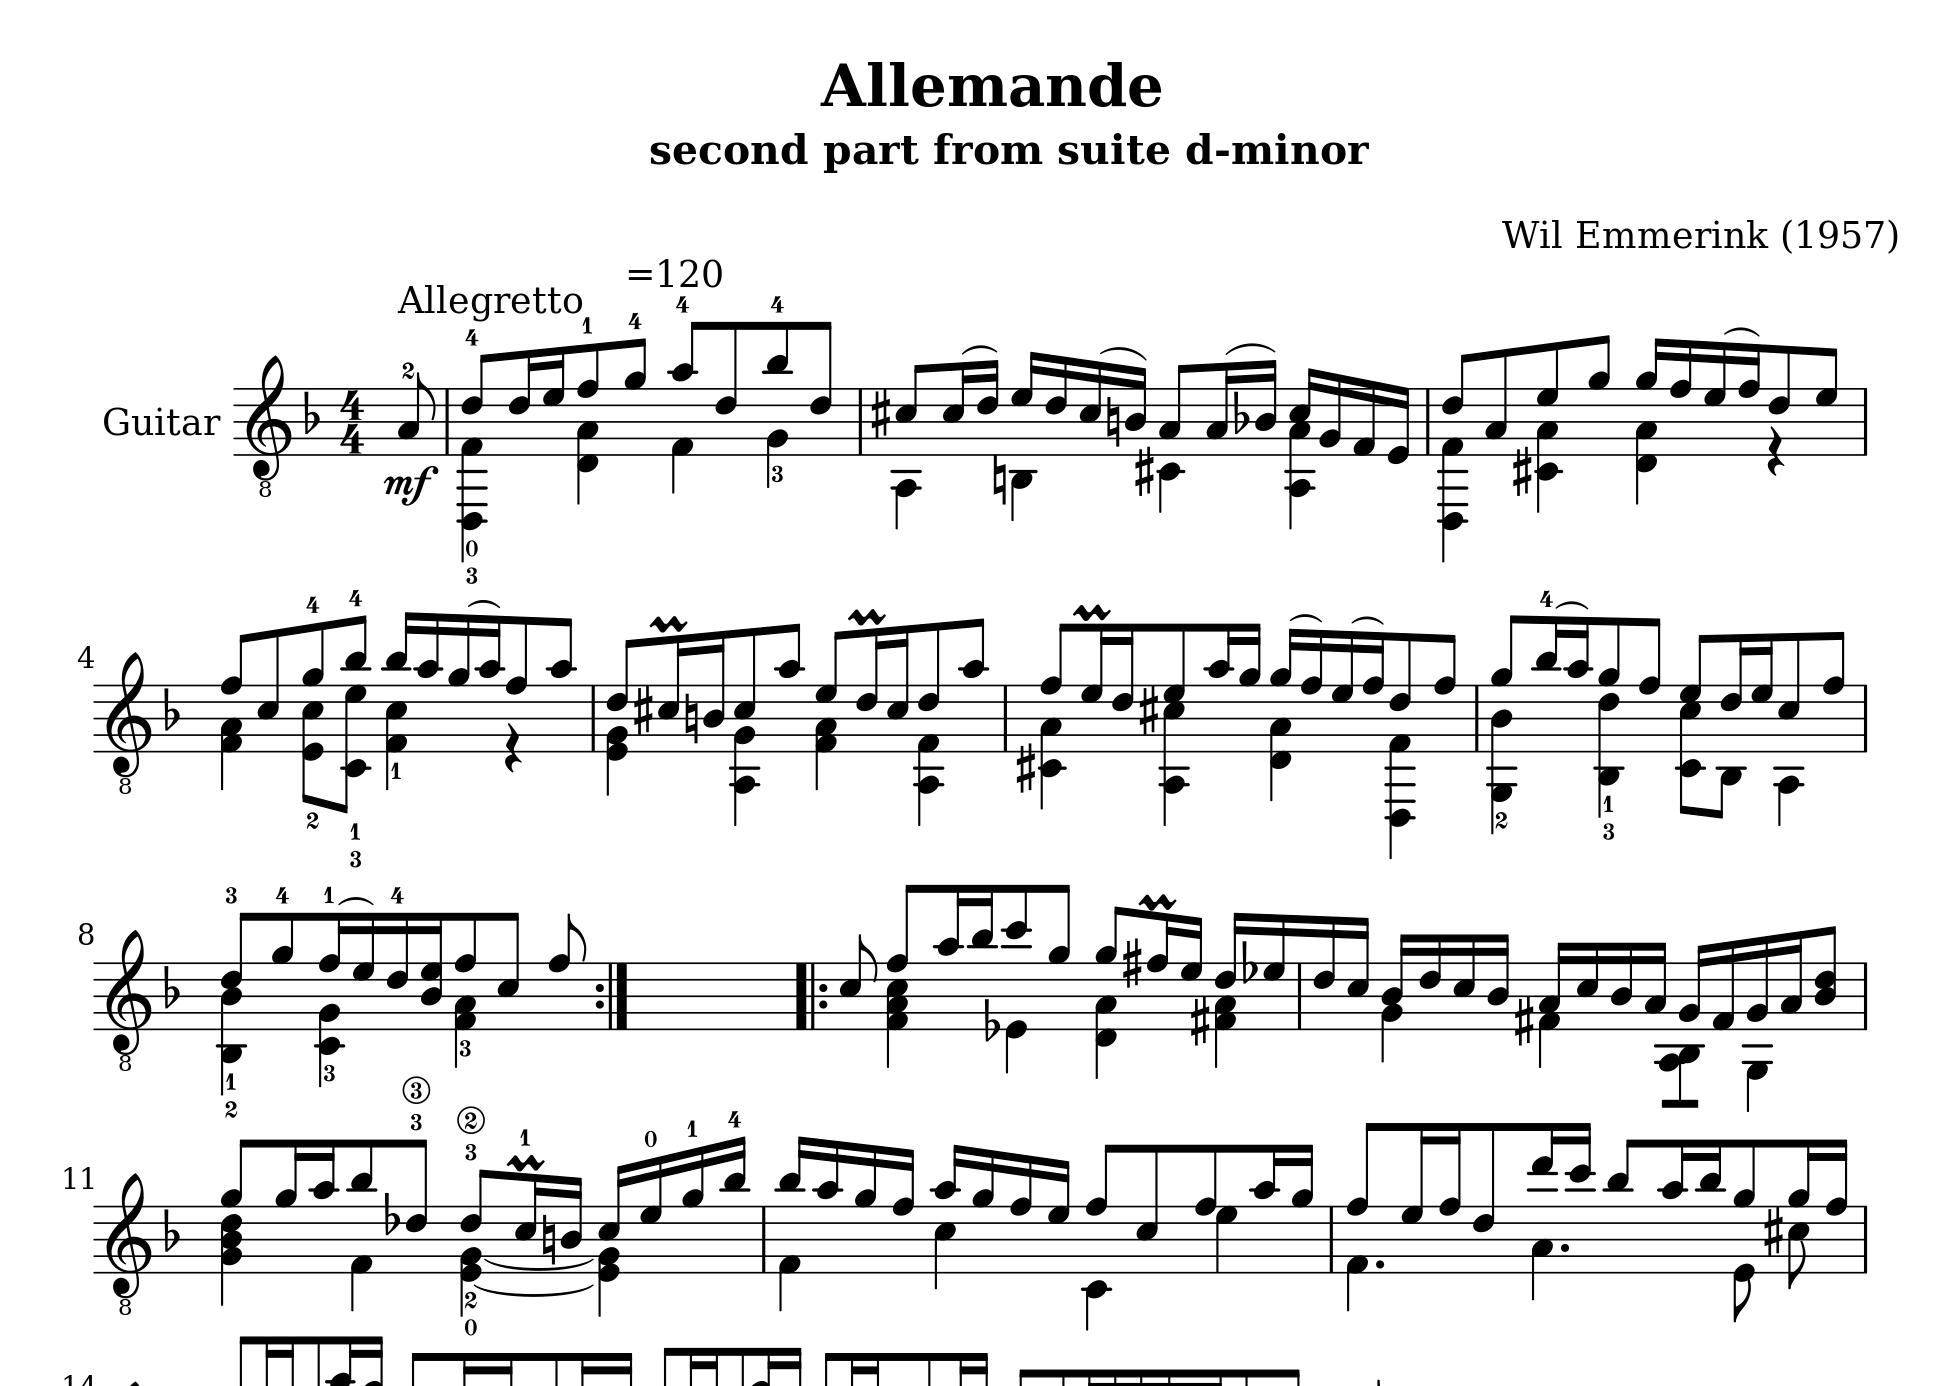0: (702, 256, 723, 288), (643, 1126, 657, 1147)
1: (79, 1162, 96, 1192), (658, 256, 673, 288), (61, 1162, 76, 1192), (348, 820, 361, 840), (322, 883, 334, 904), (685, 1117, 697, 1138)
16_0: (1386, 382, 1411, 465)
16_1: (1710, 937, 1735, 1032), (1350, 376, 1377, 457)
16_10: (934, 883, 964, 1032), (1659, 1137, 1690, 1273), (309, 1135, 337, 1276), (1251, 1143, 1281, 1273), (813, 1137, 841, 1273), (475, 613, 502, 753), (1206, 621, 1234, 753), (1564, 615, 1591, 751), (415, 610, 441, 751)
16_11: (1603, 1134, 1636, 1273), (1533, 612, 1563, 754), (969, 880, 996, 1032), (720, 1132, 748, 1275), (1696, 1137, 1723, 1272)
16_12: (1566, 1120, 1594, 1273), (1003, 880, 1029, 1038)
16_2: (1677, 940, 1708, 1030), (1317, 370, 1344, 457), (1746, 933, 1770, 1030)
16_3: (1779, 928, 1804, 1032), (1203, 361, 1230, 457), (1642, 940, 1668, 1030)
16_4: (700, 630, 727, 754), (1254, 357, 1279, 457), (1486, 930, 1512, 1030), (559, 1174, 583, 1273), (1609, 940, 1635, 1030), (1123, 364, 1147, 453)
16_5: (885, 622, 910, 756), (655, 634, 682, 753), (1345, 913, 1371, 1030), (513, 1171, 541, 1275), (940, 358, 970, 456), (1452, 931, 1477, 1030), (1078, 358, 1102, 456), (1575, 940, 1600, 1030)
16_6: (1471, 1116, 1497, 1282), (853, 625, 882, 756), (1719, 633, 1749, 754), (1110, 622, 1137, 756), (505, 348, 535, 457), (1312, 913, 1339, 1030), (385, 909, 411, 1030), (1044, 352, 1071, 456), (976, 357, 1002, 456), (1419, 931, 1443, 1030)
16_7: (1401, 1120, 1428, 1276), (1080, 621, 1108, 754), (1330, 628, 1356, 753), (351, 907, 376, 1030), (1011, 349, 1039, 456), (639, 1152, 663, 1276), (1047, 1155, 1071, 1276), (1750, 633, 1774, 753), (1263, 910, 1287, 1030), (1704, 339, 1728, 457), (1179, 913, 1203, 1030), (541, 343, 565, 457)
16_8: (1440, 1122, 1464, 1273), (889, 1144, 916, 1273), (1146, 910, 1174, 1030), (1008, 1150, 1035, 1275), (1824, 1138, 1848, 1276), (1299, 627, 1324, 753), (1669, 337, 1695, 456), (1362, 630, 1386, 754), (1737, 340, 1762, 456)
16_9: (274, 1137, 301, 1276), (445, 609, 471, 754), (1290, 1140, 1315, 1275), (679, 1143, 705, 1276), (970, 1144, 996, 1273), (1237, 619, 1261, 754), (853, 1141, 877, 1276)
2: (676, 256, 699, 288)
3: (408, 1111, 424, 1131), (223, 883, 238, 904), (463, 565, 478, 585), (1602, 820, 1617, 840), (463, 1141, 478, 1161), (348, 847, 361, 868)
4: (337, 420, 367, 454), (337, 385, 366, 420), (274, 883, 291, 904), (388, 883, 405, 904), (675, 292, 690, 315), (1537, 589, 1554, 607), (348, 586, 363, 606), (304, 592, 319, 612)
4_0: (1003, 958, 1027, 1077)
4_1: (348, 1203, 373, 1311), (777, 1201, 801, 1312), (670, 387, 694, 493)
4_3: (1530, 1201, 1554, 1300)
4_5: (933, 1201, 955, 1291)
4_7: (1216, 1204, 1239, 1273)
8: (76, 919, 94, 946)
8_10: (958, 616, 988, 754), (547, 613, 574, 753), (774, 621, 802, 753)
8_3: (396, 370, 435, 457), (1156, 361, 1189, 456), (1482, 346, 1509, 459)
8_5: (838, 933, 877, 1032), (1135, 1141, 1161, 1276), (256, 625, 280, 754), (894, 361, 925, 457), (1777, 631, 1801, 756), (496, 909, 520, 1030)
8_6: (712, 319, 739, 457), (808, 318, 834, 460), (405, 1135, 430, 1276)
8_7: (1815, 345, 1839, 457)
8_8: (547, 912, 583, 1032), (1636, 616, 1663, 754), (1194, 1141, 1218, 1275), (1432, 631, 1458, 754), (1821, 631, 1846, 754)
8_9: (1047, 883, 1072, 1033), (268, 909, 295, 1030), (1587, 333, 1612, 457), (622, 336, 648, 454)
Flat: (160, 961, 181, 1009), (160, 685, 181, 732), (160, 1206, 181, 1252), (301, 388, 321, 436), (1233, 388, 1251, 435), (1242, 937, 1258, 985), (382, 1189, 399, 1237), (982, 997, 999, 1044)
Guit: (100, 400, 183, 436)
LeftRepeatSign: (792, 961, 829, 1029)
Lower_Gclef: (103, 649, 151, 796), (244, 352, 292, 498), (103, 928, 151, 1072), (103, 1171, 151, 1315)
Natural: (682, 690, 700, 744), (991, 453, 1008, 508), (1105, 393, 1122, 448), (541, 1210, 556, 1266)
Rests4: (502, 721, 523, 775), (1767, 424, 1785, 478)
RightRepeatSign: (594, 961, 631, 1027)
Sharp: (868, 385, 891, 439), (1189, 994, 1212, 1048), (1132, 444, 1155, 496), (1510, 444, 1533, 496), (1014, 741, 1036, 793), (1513, 994, 1536, 1047), (1122, 934, 1143, 990), (1762, 1204, 1783, 1258), (633, 682, 654, 735), (1138, 684, 1159, 736)
ShortTrill: (1071, 600, 1113, 621), (847, 604, 888, 625), (648, 612, 688, 631), (507, 1152, 546, 1171), (1140, 889, 1177, 909)
Single_barline: (754, 1204, 772, 1272), (1858, 961, 1875, 1030), (1858, 684, 1875, 751), (1857, 1204, 1873, 1272), (1857, 388, 1873, 454), (1323, 1206, 1339, 1270), (439, 387, 454, 453), (1420, 388, 1435, 453), (853, 388, 868, 453), (586, 685, 601, 750), (999, 685, 1014, 750), (1470, 685, 1485, 750), (1293, 964, 1308, 1027)
Slur: (474, 1284, 595, 1296), (480, 1255, 594, 1267), (1225, 340, 1275, 355), (1101, 343, 1146, 360), (961, 343, 999, 355), (1725, 325, 1761, 337), (466, 597, 502, 609), (1554, 598, 1590, 610), (1351, 613, 1386, 625), (337, 895, 375, 906), (1290, 612, 1323, 622)
TimeSig: (337, 387, 367, 454)
dot: (1557, 1240, 1572, 1254), (1374, 1255, 1387, 1269)
mf: (382, 465, 439, 507)
